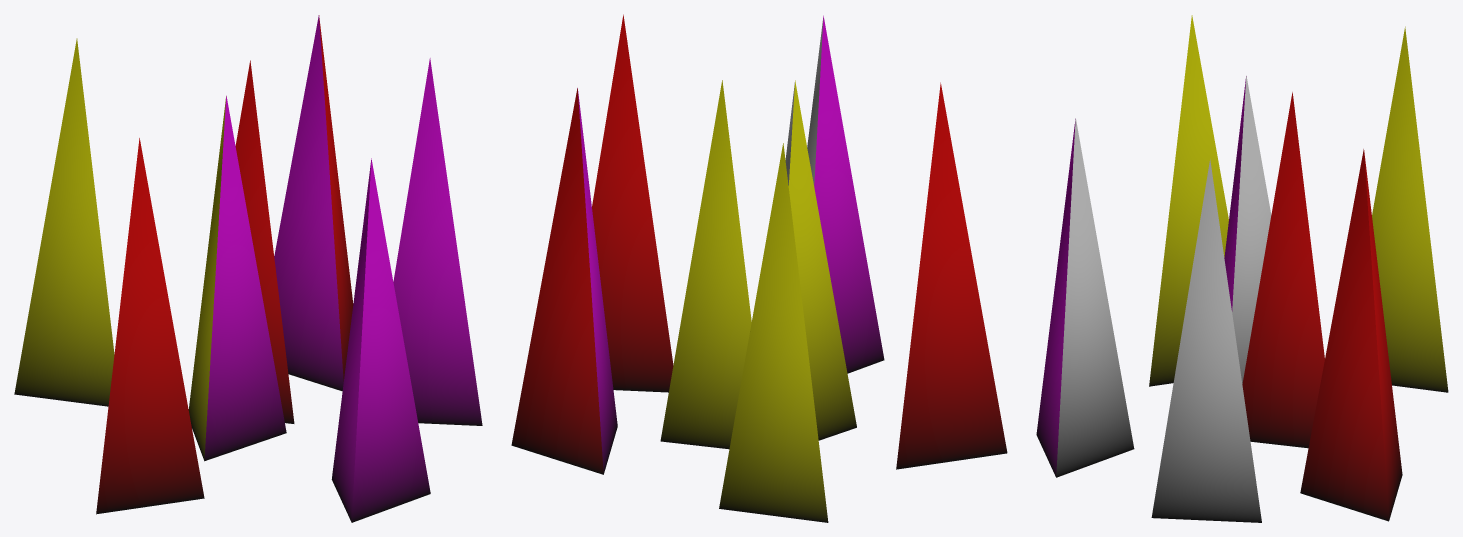
Rendered from emt_grass2.fbx.
3 views of the same model, side by side, from view 1: azimuth 30°, elevation 25°; view 2: azimuth 150°, elevation 25°; view 3: azimuth 270°, elevation 25° (orthographic). The views are drawn at different scales.
Visible parts, largest first — view 1: testScene_grass; view 2: testScene_grass; view 3: testScene_grass.
Part boxes in pixels (box(x1,y1,x2,y2)): testScene_grass: box(14, 15, 482, 522); testScene_grass: box(511, 14, 1007, 522); testScene_grass: box(1036, 15, 1448, 522).
Bounding box in the file's own units: 82.82 × 75.78 × 77.29.
